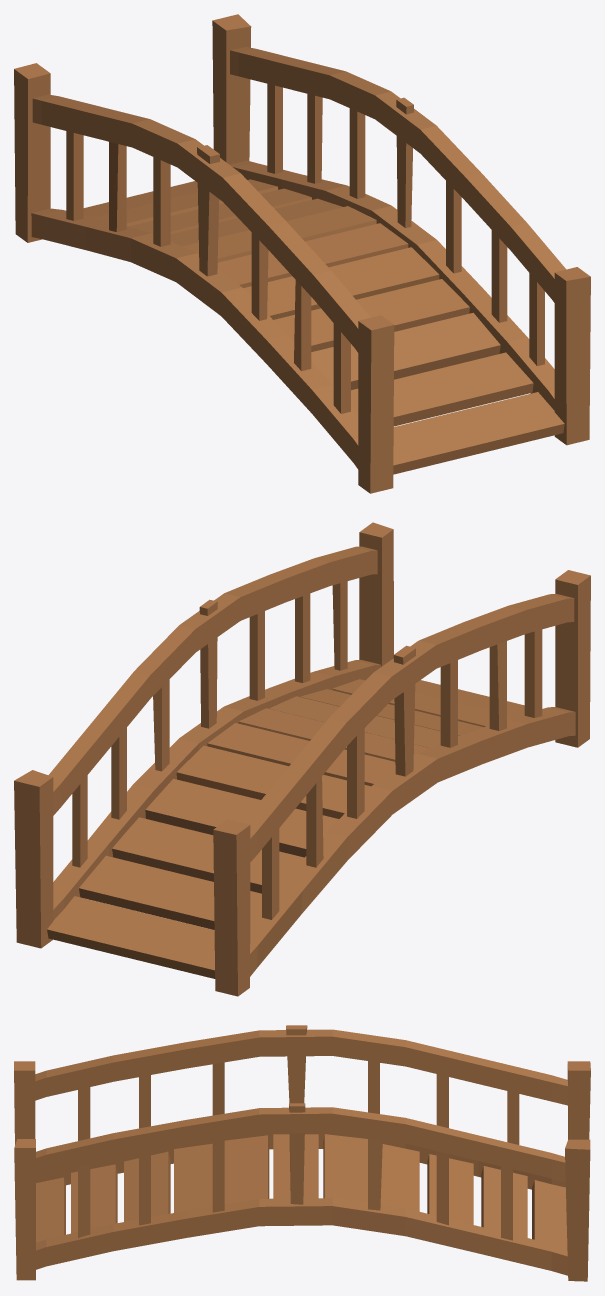
File: Brücke.fbx
The picture shows the model from 3 angles, top to bottom: view 1: azimuth 30°, elevation 25°; view 2: azimuth 150°, elevation 25°; view 3: azimuth 270°, elevation 25°; orthographic projection. The views are drawn at different scales.
Visible parts, largest first — view 1: Cube.011; view 2: Cube.011; view 3: Cube.011.
Boxes of the visible parts, box(x1,y1,x2,y2) form: Cube.011: box(14, 14, 590, 493); Cube.011: box(14, 522, 590, 996); Cube.011: box(14, 1025, 590, 1281).
Size of the model in its own units: 461 by 418 by 1275.
